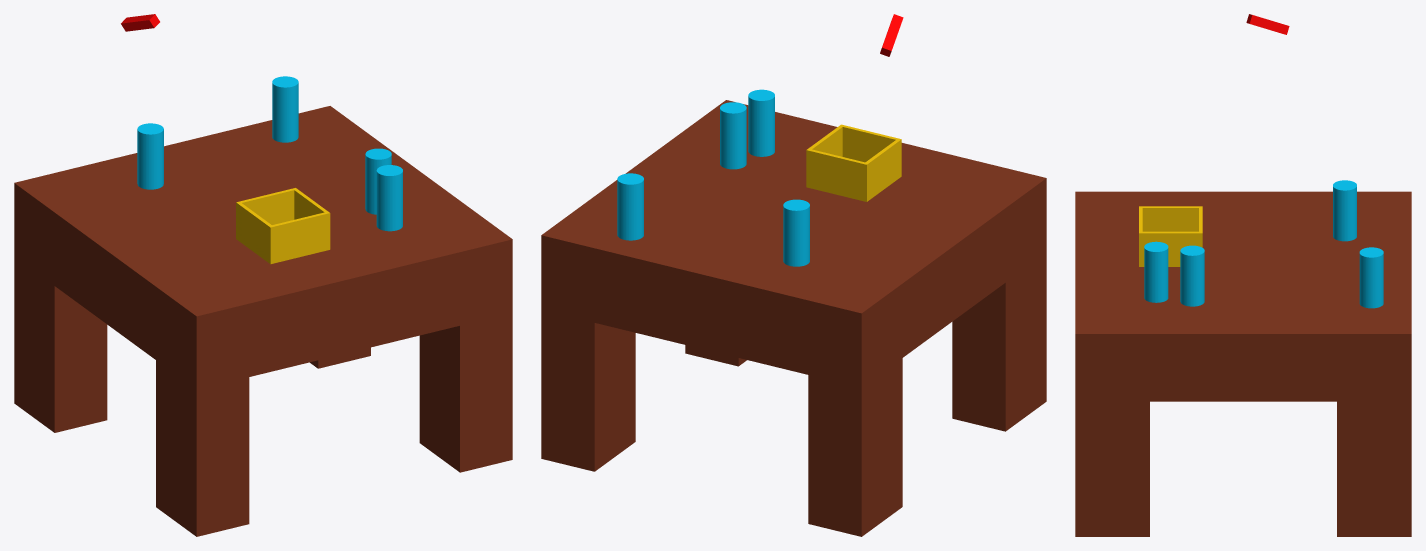
File: problem_3.dae
The picture shows the model from 3 angles, left to right: view 1: azimuth 30°, elevation 25°; view 2: azimuth 150°, elevation 25°; view 3: azimuth 270°, elevation 25°; orthographic projection. The views are drawn at different scales.
Parts seen in each view (by area): view 1: base (×12); view 2: base (×12); view 3: base (×10).
Boxes of the visible parts, x1,y1,x2,y2 form: base (×12): (14, 76, 512, 536); base (×12): (541, 89, 1046, 536); base (×10): (1075, 14, 1411, 536).
Size of the model in its own units: 0.9 by 0.9 by 1.2.
